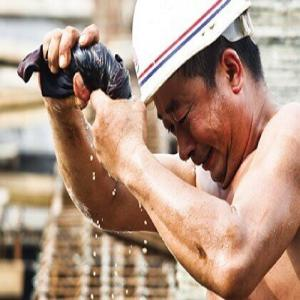white: (131, 2, 259, 190)
